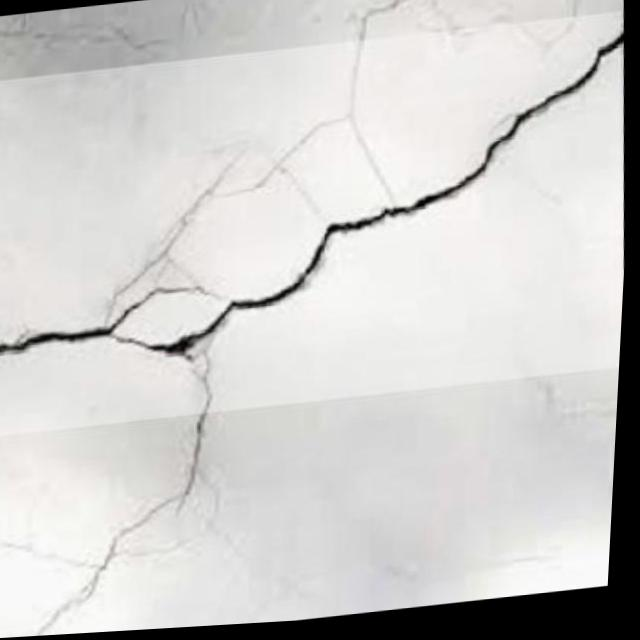Crack: (0, 25, 638, 436)
